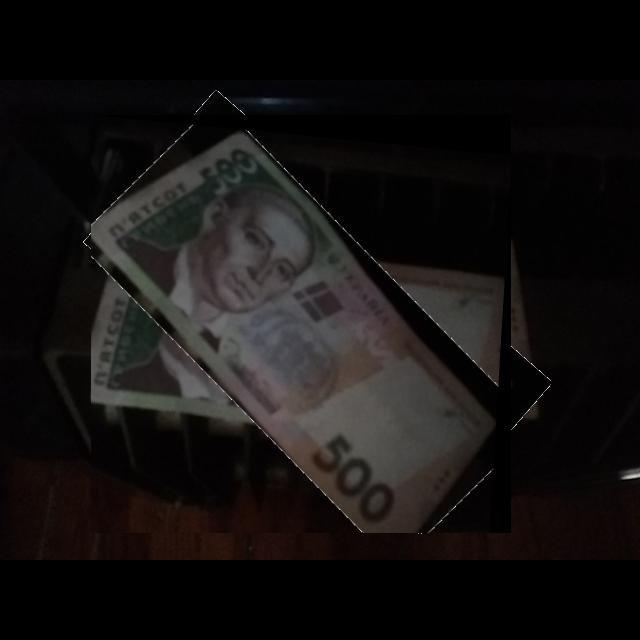500uah: (91, 128, 500, 534)
